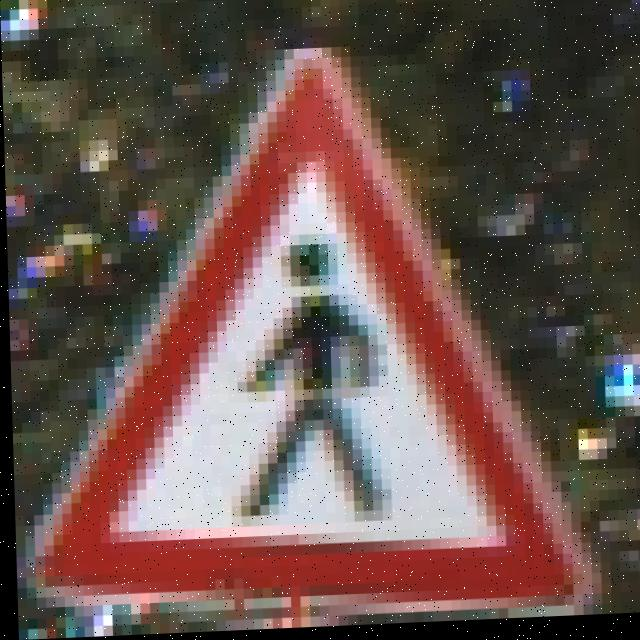crosswalk: (99, 39, 559, 628)
